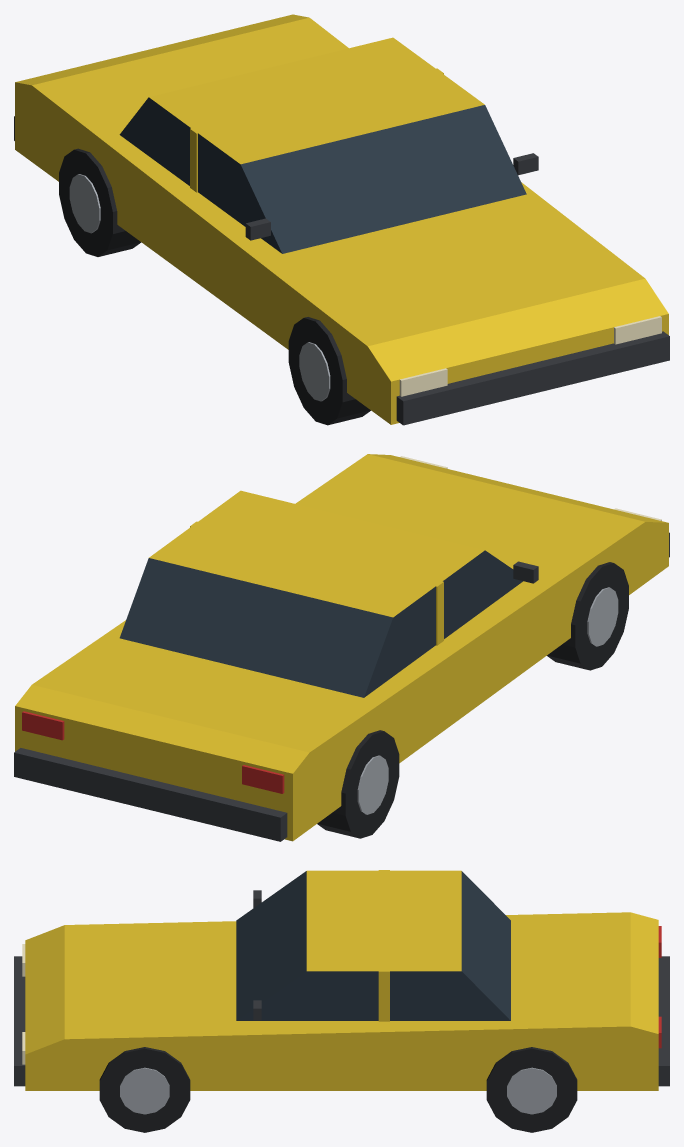
File: sports_car.glb
3 renders of one model, top to bottom at view 1: azimuth 30°, elevation 25°; view 2: azimuth 150°, elevation 25°; view 3: azimuth 270°, elevation 25°, orthographic. The views are drawn at different scales.
Parts seen in each view (by area): view 1: Body, Wheel_FR, Wheel_RR; view 2: Body, Wheel_RR, Wheel_FR; view 3: Body, Wheel_RL, Wheel_FL.
Boxes of the visible parts, <box> form: Body: <box>14,14,669,425</box>; Wheel_FR: <box>288,317,370,425</box>; Wheel_RR: <box>59,148,141,256</box>; Body: <box>14,454,669,841</box>; Wheel_RR: <box>317,730,399,838</box>; Wheel_FR: <box>547,562,628,670</box>; Body: <box>14,870,669,1090</box>; Wheel_RL: <box>486,1047,577,1132</box>; Wheel_FL: <box>99,1047,190,1132</box>.
Size of the model in its own units: 2 by 1.2 by 4.66.
